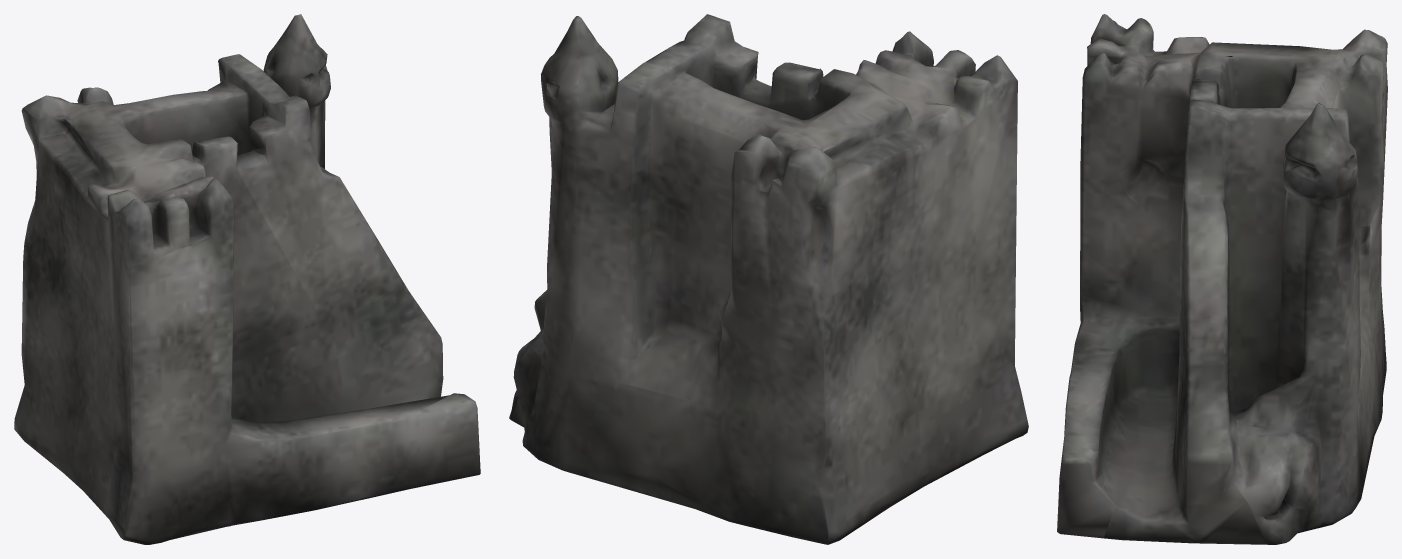
Rendered from sturdy-granite-battlement-wall-v001.glb.
3 renders of one model, left to right at view 1: azimuth 30°, elevation 25°; view 2: azimuth 150°, elevation 25°; view 3: azimuth 270°, elevation 25°, orthographic. The views are drawn at different scales.
Parts seen in each view (by area): view 1: sturdy-granite-battlement-wall; view 2: sturdy-granite-battlement-wall; view 3: sturdy-granite-battlement-wall.
Part boxes in pixels (x1,y1,x2,y2): sturdy-granite-battlement-wall: (14, 14, 480, 544); sturdy-granite-battlement-wall: (509, 14, 1028, 544); sturdy-granite-battlement-wall: (1057, 14, 1387, 544).
Size of the model in its own units: 1.61 by 1.61 by 1.2.
1 material, 1 textured.
